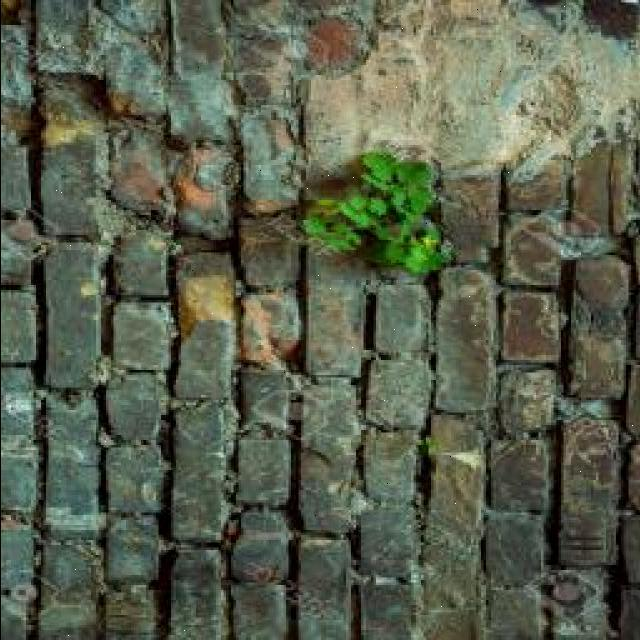crack: (1, 0, 638, 638), (284, 0, 639, 250), (91, 368, 120, 473)
vegetation: (299, 147, 458, 276)
